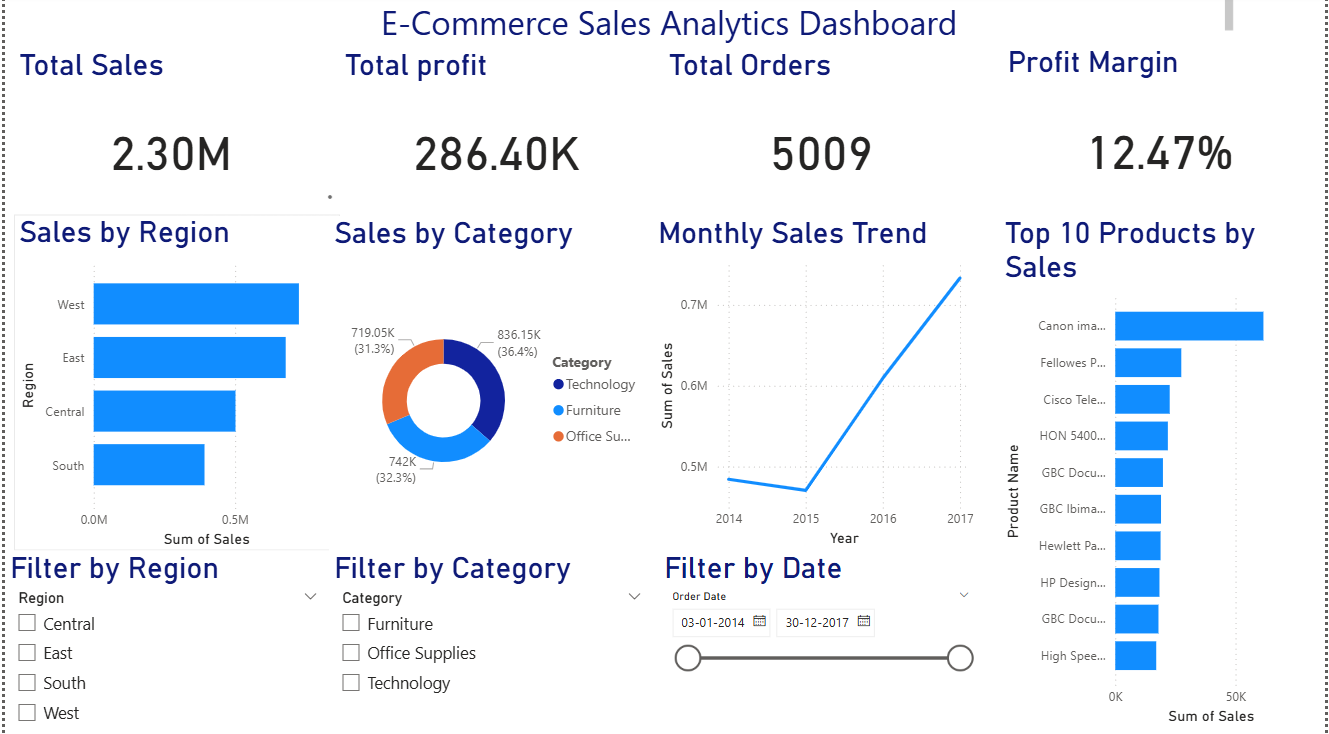

Layout of this report page (visuals, bound fields, positions):
{"tool":"powerbi","page":{"name":"Page 1","canvas":[1280,720],"ordinal":0},"visuals":[{"type":"lineChart","title":"Monthly Sales Trend","fields":{"Y":["Sum(Superstore sales dataset.Sales)"],"Category":["Superstore sales dataset.Order Date.Variation.Date Hierarchy.Year","Superstore sales dataset.Order Date.Variation.Date Hierarchy.Month"]},"box":[629.3,215.4,315.6,262.7],"z":0},{"type":"clusteredBarChart","title":"Sales by Region","fields":{"Category":["Superstore sales dataset.Region"],"Y":["Sum(Superstore sales dataset.Sales)"]},"box":[9.4,213.5,315.6,264.6],"z":1000},{"type":"donutChart","title":"Sales by Category","fields":{"Category":["Superstore sales dataset.Category"],"Y":["Sum(Superstore sales dataset.Sales)"]},"box":[965.7,215.4,313.7,258.9],"z":2000},{"type":"clusteredBarChart","title":"Top 10 Products by Sales","fields":{"Category":["Superstore sales dataset.Product Name"],"Y":["Sum(Superstore sales dataset.Sales)"]},"box":[321.3,215.4,313.7,262.7],"z":3000},{"type":"slicer","title":"Filter by Region","fields":{"Values":["Superstore sales dataset.Region"]},"box":[0,474.3,315.6,243.8],"z":4000},{"type":"slicer","title":"Filter by Category","fields":{"Values":["Superstore sales dataset.Category"]},"box":[313.7,476.2,315.6,241.9],"z":5000},{"type":"slicer","title":"Filter by Date","fields":{"Values":["Superstore sales dataset.Order Date"]},"box":[635,481.9,313.7,230.6],"z":6000},{"type":"card","title":"Total Sales","fields":{"Values":["Superstore sales dataset.Total Sales"]},"box":[9.4,52.9,304.3,160.6],"z":7000},{"type":"card","title":"Total profit","fields":{"Values":["Superstore sales dataset.Total Profit"]},"box":[325,52.9,304.3,160.6],"z":8000},{"type":"card","title":"Total Orders","fields":{"Values":["Superstore sales dataset.Total Orders"]},"box":[638.7,52.9,304.3,160.6],"z":9000},{"type":"card","title":"Profit Margin","fields":{"Values":["Superstore sales dataset.Profit Margin"]},"box":[967.6,49.1,304.3,164.4],"z":10000},{"type":"textbox","box":[100.2,0,1096.1,52.9],"z":10001}]}

Visuals, with their boxes in screenshot pixels (x1, y1, x2, y2), scaled from the page's 1280x720 canvas onto the 1329x734 screenshot:
"Monthly Sales Trend" lineChart: <region>653, 220, 981, 487</region>
"Sales by Region" clusteredBarChart: <region>10, 218, 337, 487</region>
"Sales by Category" donutChart: <region>1003, 220, 1328, 484</region>
"Top 10 Products by Sales" clusteredBarChart: <region>334, 220, 659, 487</region>
"Filter by Region" slicer: <region>0, 484, 328, 732</region>
"Filter by Category" slicer: <region>326, 485, 653, 732</region>
"Filter by Date" slicer: <region>659, 491, 985, 726</region>
"Total Sales" card: <region>10, 54, 326, 218</region>
"Total profit" card: <region>337, 54, 653, 218</region>
"Total Orders" card: <region>663, 54, 979, 218</region>
"Profit Margin" card: <region>1005, 50, 1321, 218</region>
textbox: <region>104, 0, 1242, 54</region>
